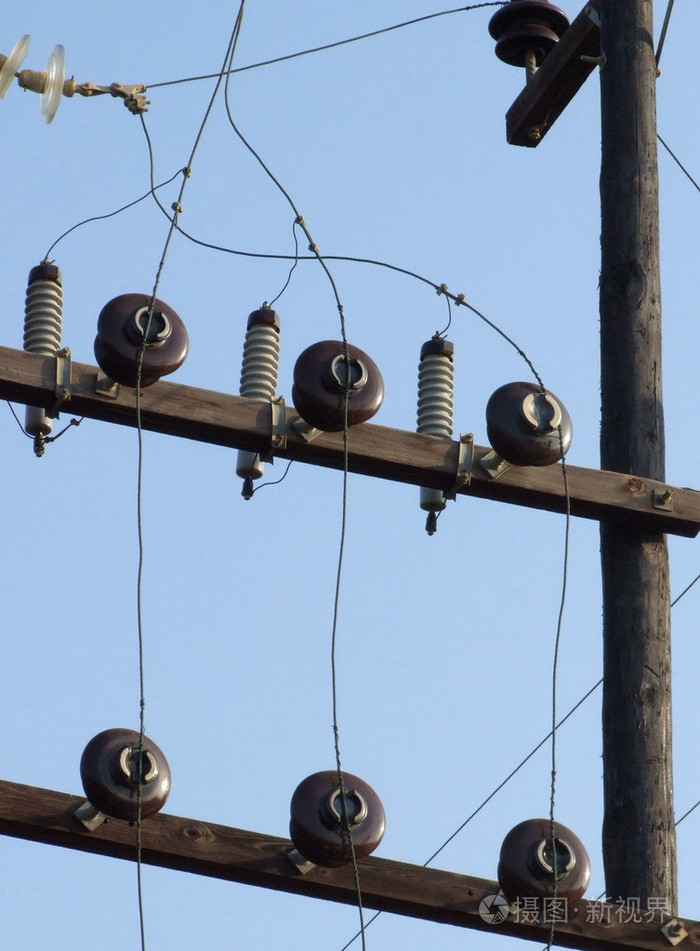insulator: (1, 24, 72, 123)
